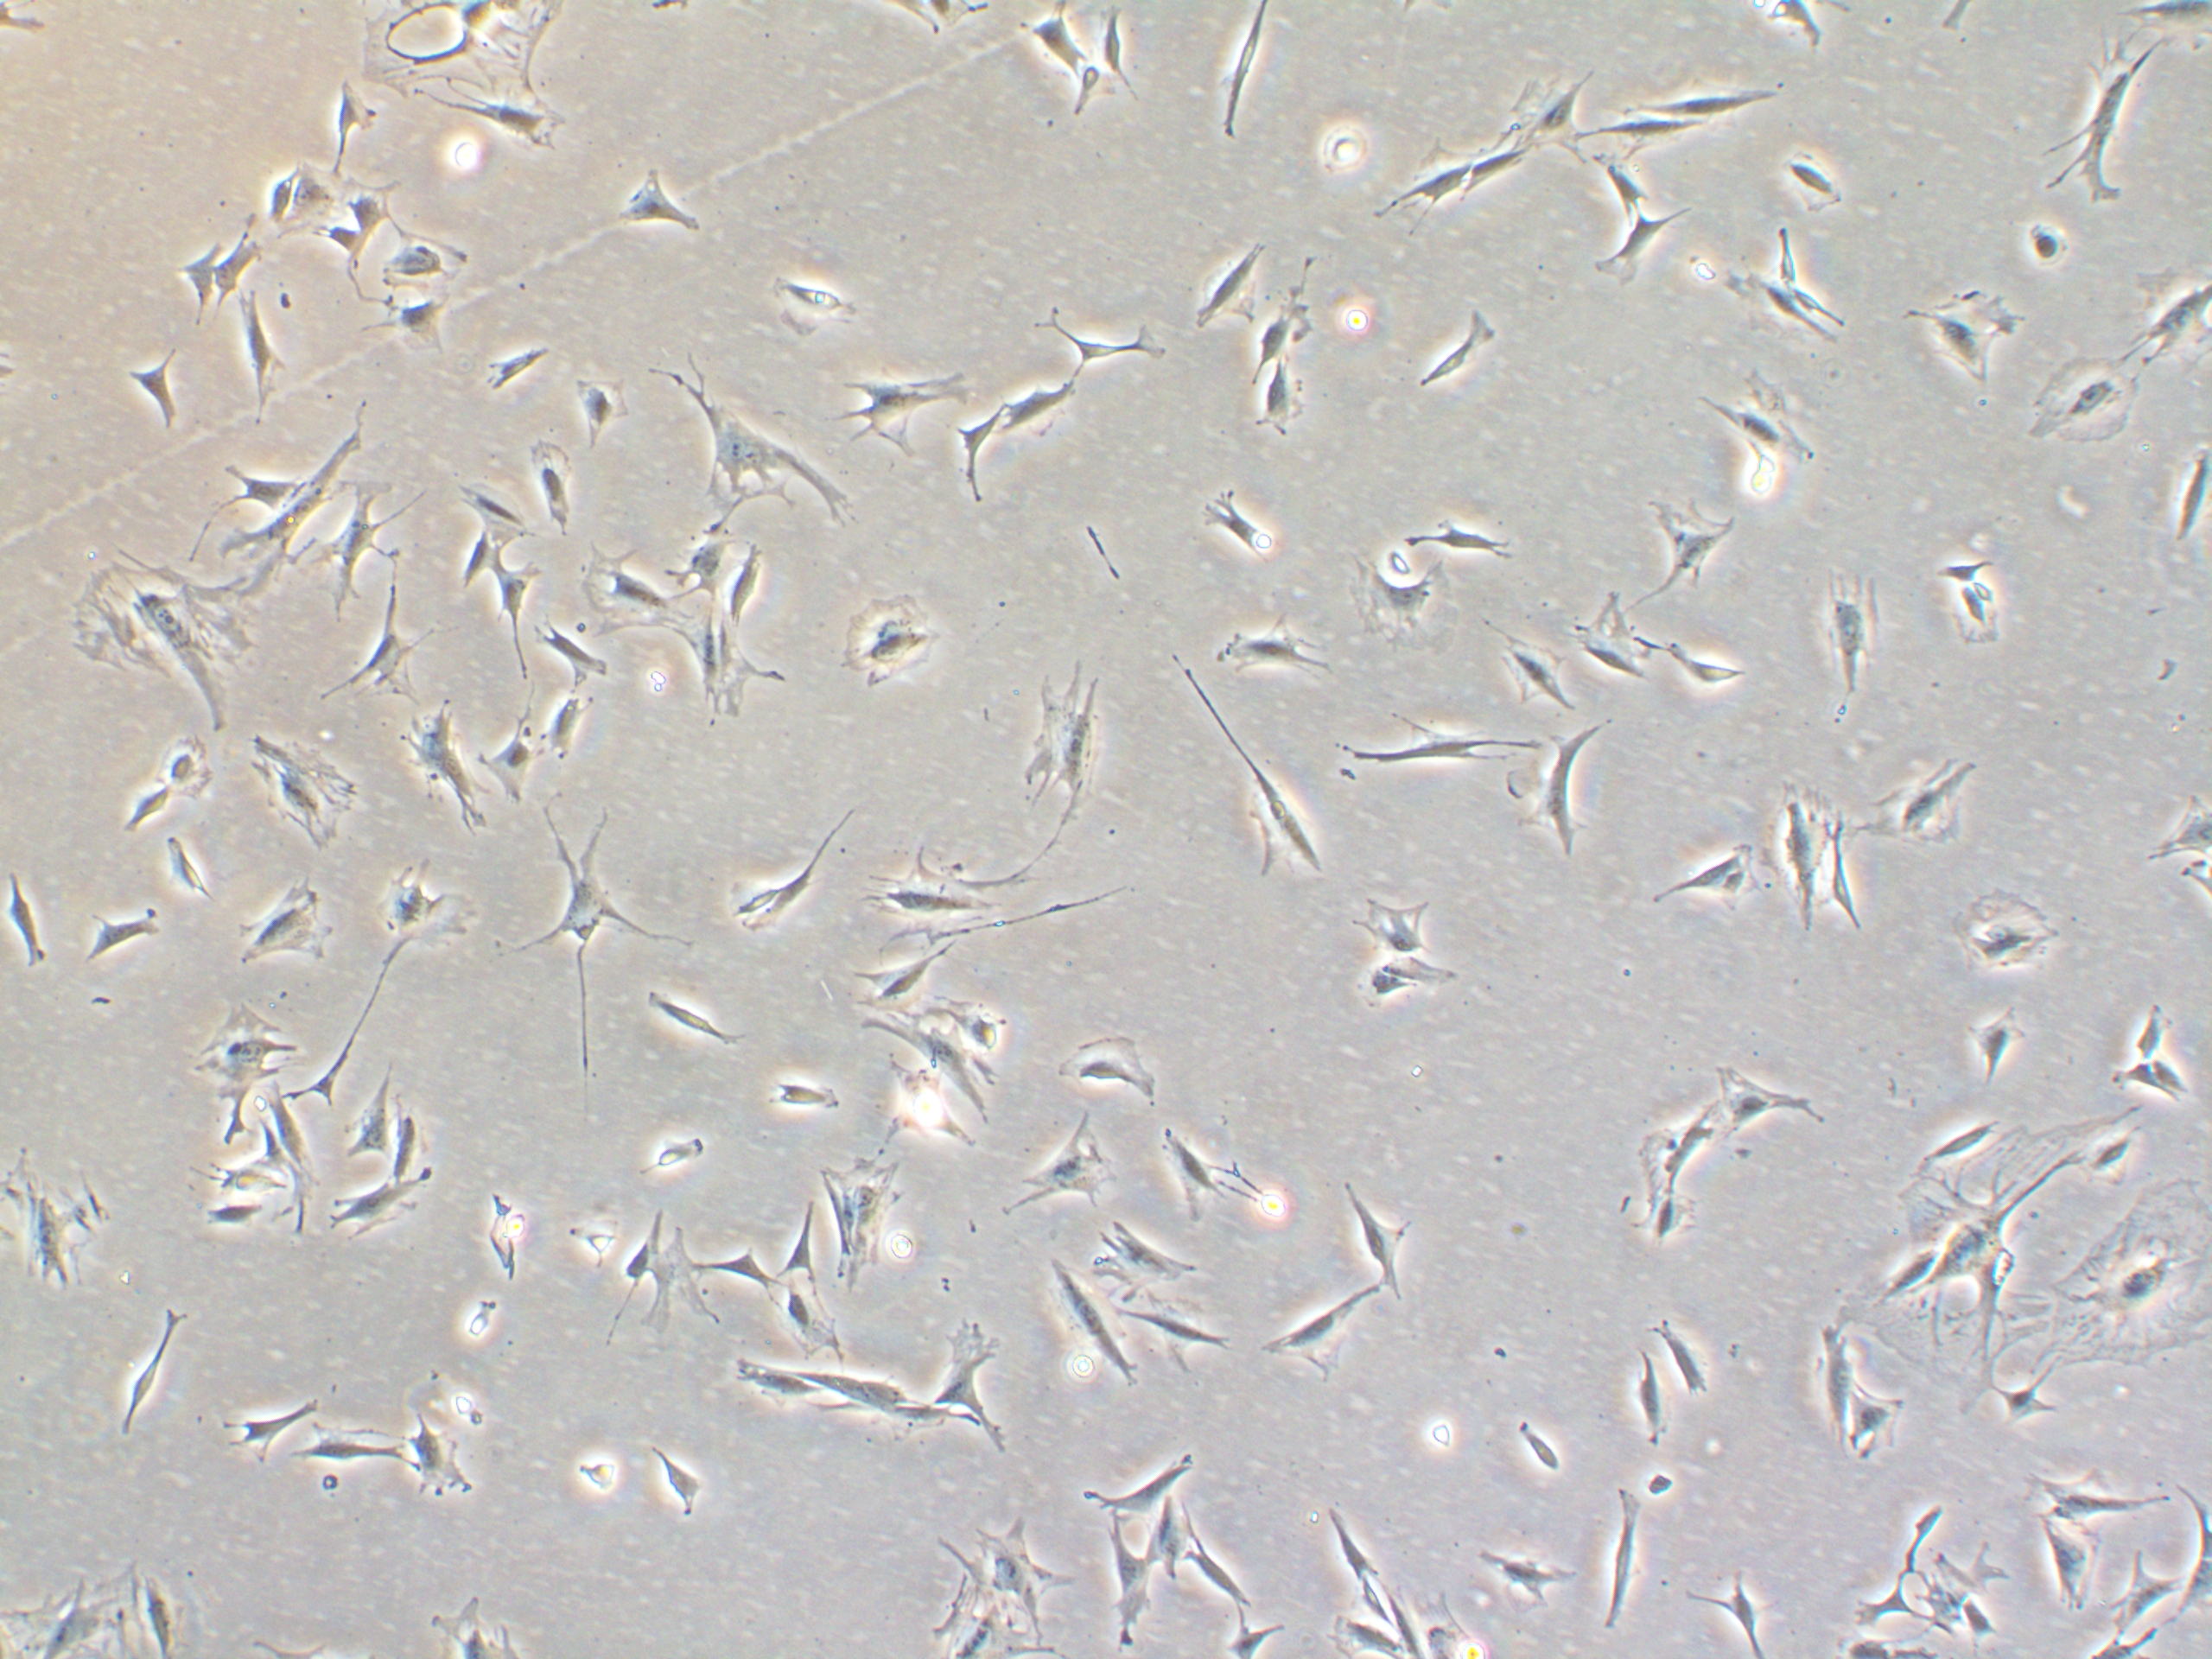small: (1296, 99, 1385, 195), (1655, 626, 1757, 702), (632, 1117, 732, 1178), (554, 1211, 629, 1290), (148, 735, 219, 807), (2012, 213, 2078, 272), (570, 1446, 632, 1504), (460, 1284, 503, 1347)
spread: (1855, 1119, 2149, 1441), (33, 535, 284, 741), (2022, 1173, 2212, 1385), (665, 354, 873, 540), (350, 0, 557, 162), (1010, 629, 1127, 835), (167, 988, 296, 1168), (897, 1500, 1042, 1659), (1796, 551, 1921, 714), (0, 1145, 127, 1302), (240, 711, 368, 864), (1331, 540, 1460, 683), (857, 840, 1019, 948), (827, 570, 949, 708), (1763, 770, 1860, 941), (2013, 352, 2172, 451), (812, 1141, 906, 1302), (678, 589, 787, 725), (362, 857, 482, 981), (1956, 884, 2109, 978), (556, 540, 693, 645), (1907, 284, 2027, 401), (212, 868, 327, 990), (833, 359, 979, 453), (2099, 254, 2212, 373), (239, 150, 357, 261), (369, 225, 486, 310)
